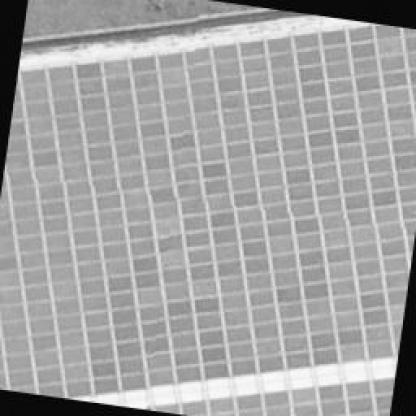solar-pv-panel: (0, 22, 416, 416)
